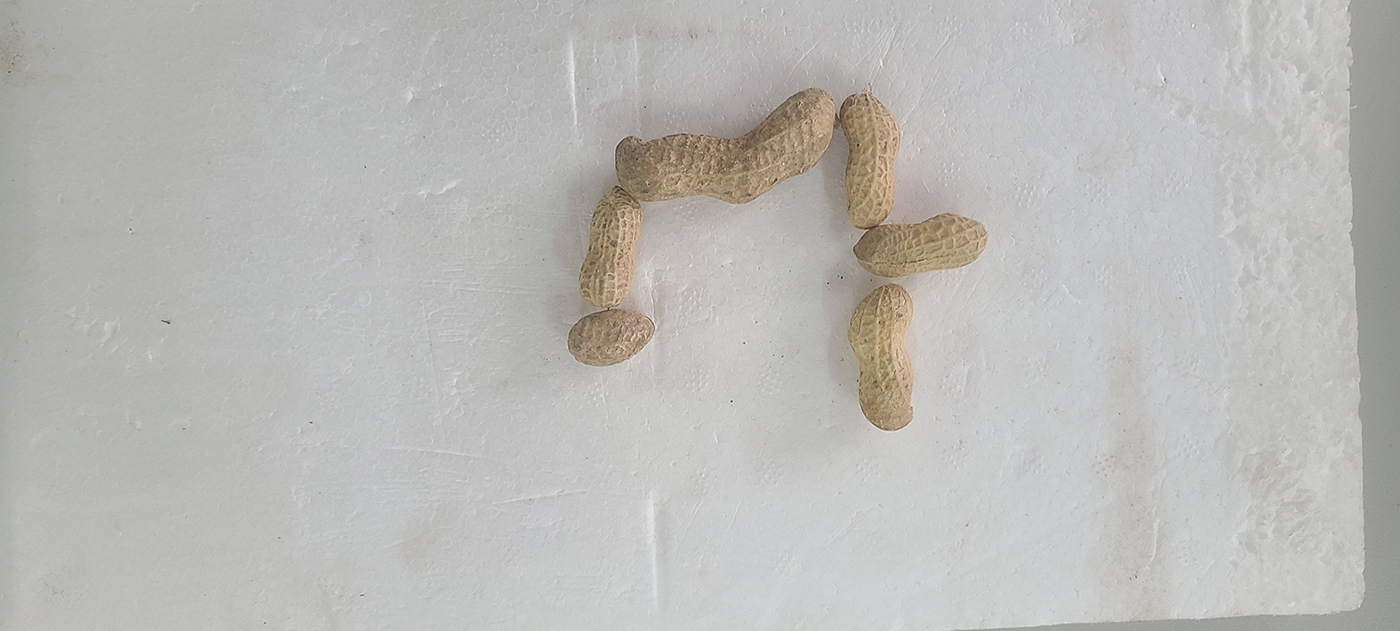h: (614, 87, 839, 203), (849, 284, 915, 431), (836, 93, 901, 229), (852, 213, 990, 277), (577, 188, 642, 309)
l: (568, 310, 655, 367)
